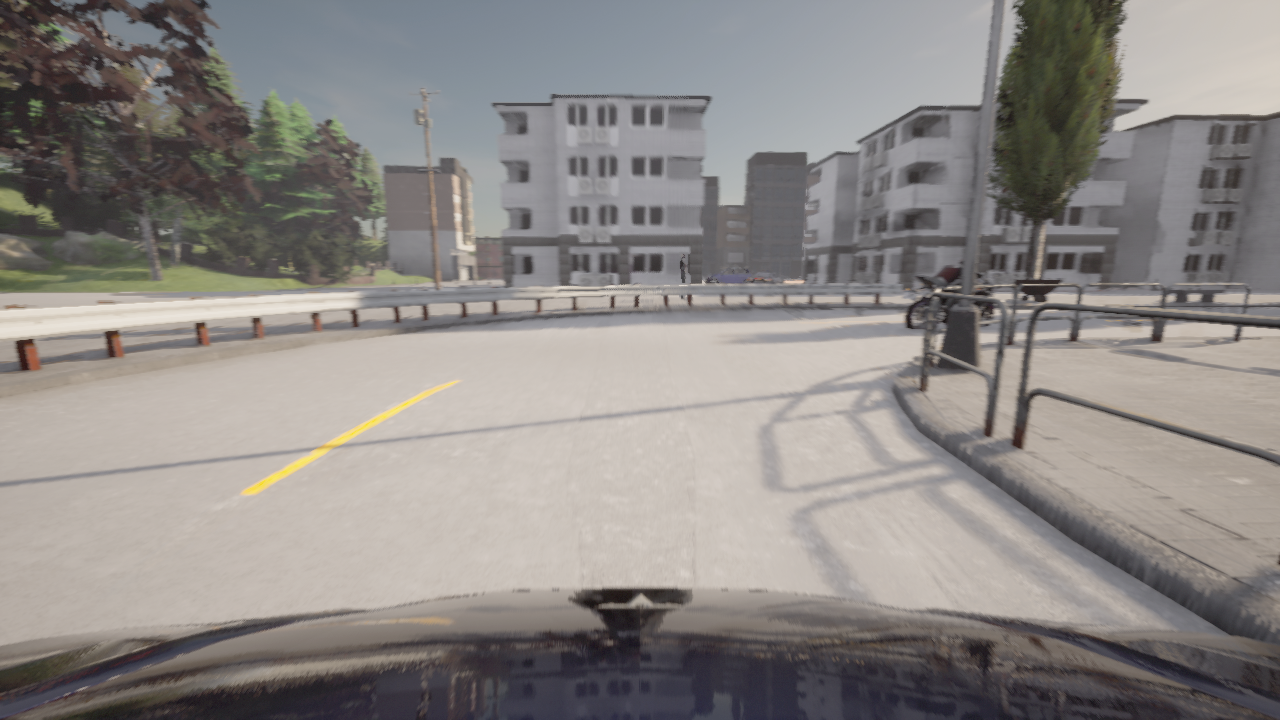cyclist: (0, 588, 1279, 719), (902, 272, 998, 330), (706, 268, 752, 284), (746, 271, 784, 283), (747, 278, 771, 279)
pedestrian: (679, 253, 686, 300)
